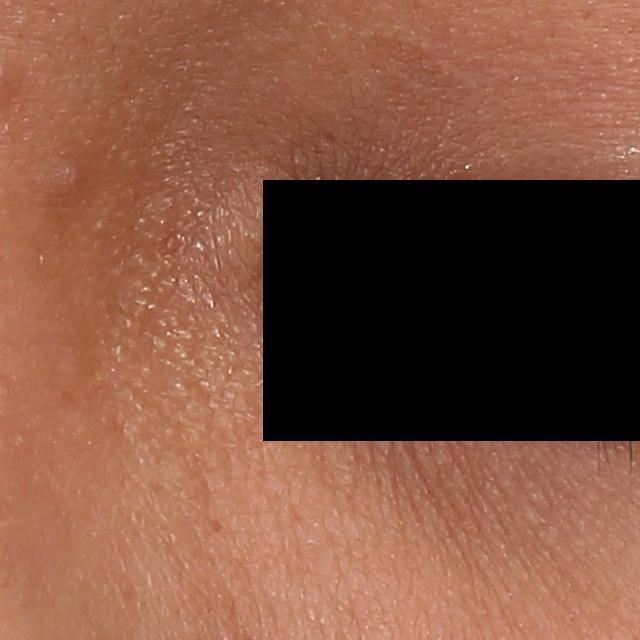papule: (43, 154, 93, 200)
